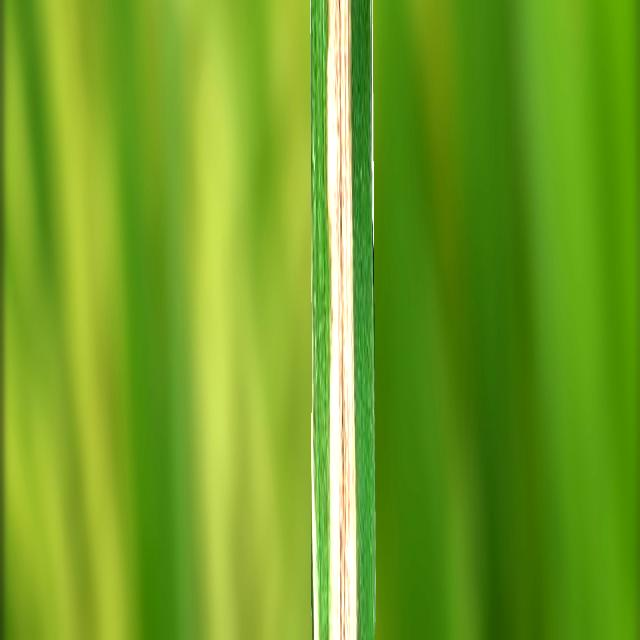BLB: (326, 0, 357, 638)
